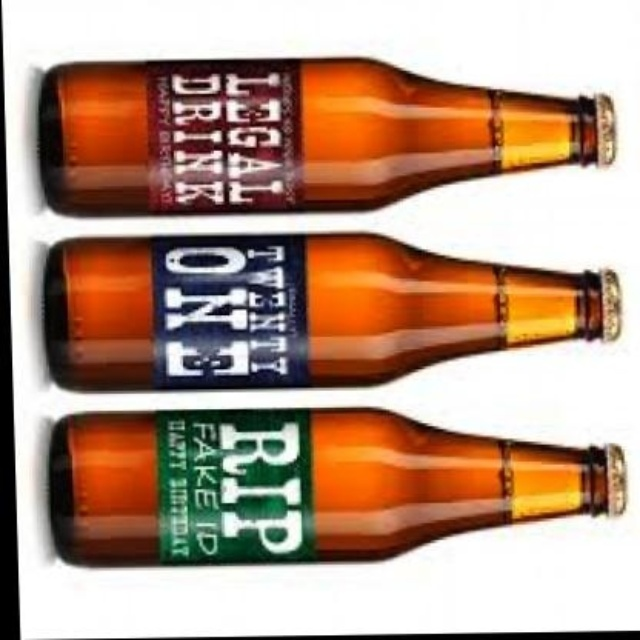trash: (40, 58, 612, 214), (45, 234, 618, 388), (51, 409, 623, 563)
